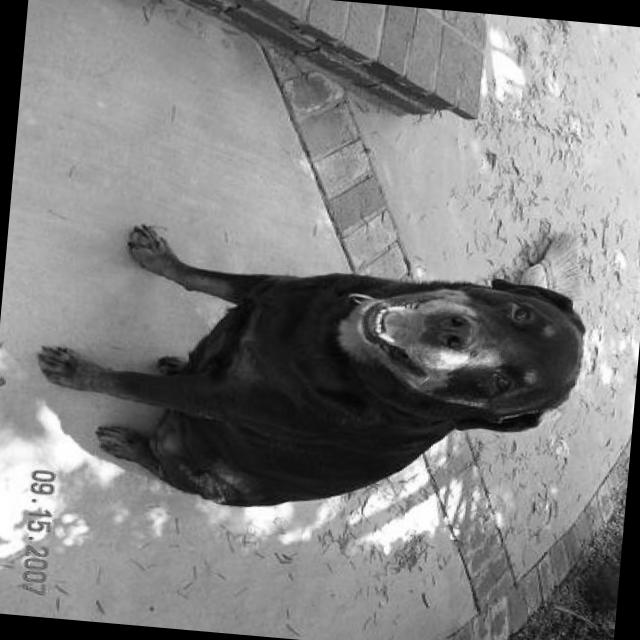sitting: (21, 206, 602, 542)
